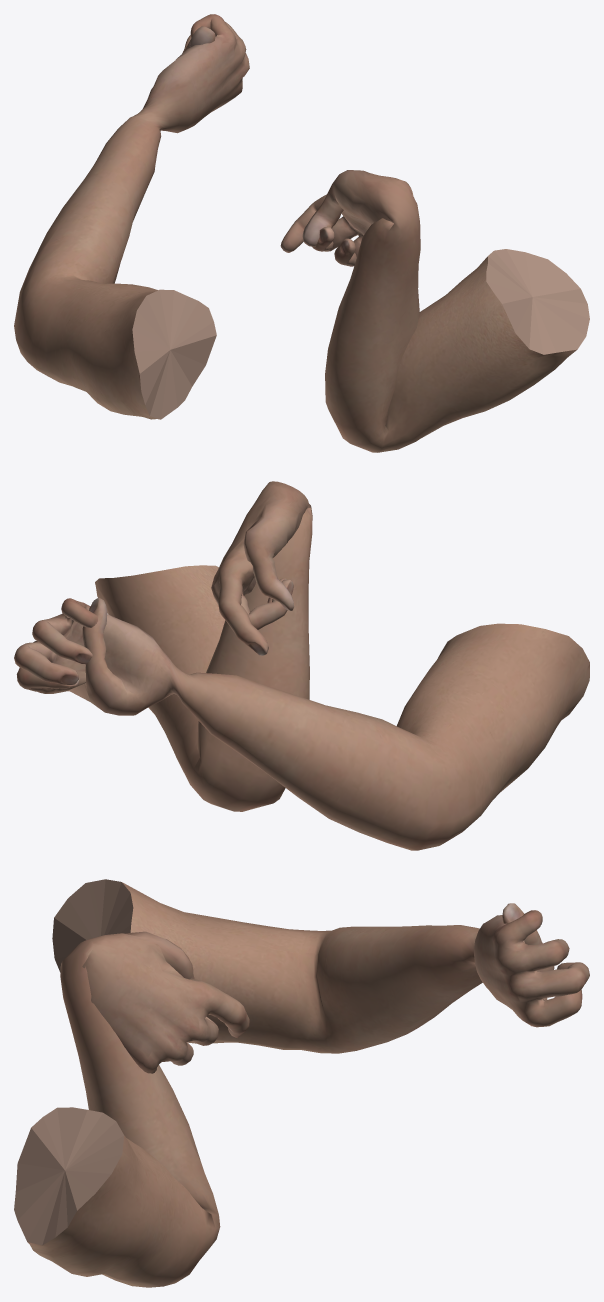
Rendered from fp-arms.glb.
3 renders of one model, top to bottom at view 1: azimuth 30°, elevation 25°; view 2: azimuth 150°, elevation 25°; view 3: azimuth 270°, elevation 25°, orthographic. The views are drawn at different scales.
Bounding box in the file's own units: 0.5181 × 0.3368 × 0.4845.
Materials: 1 (1 with a texture image).
